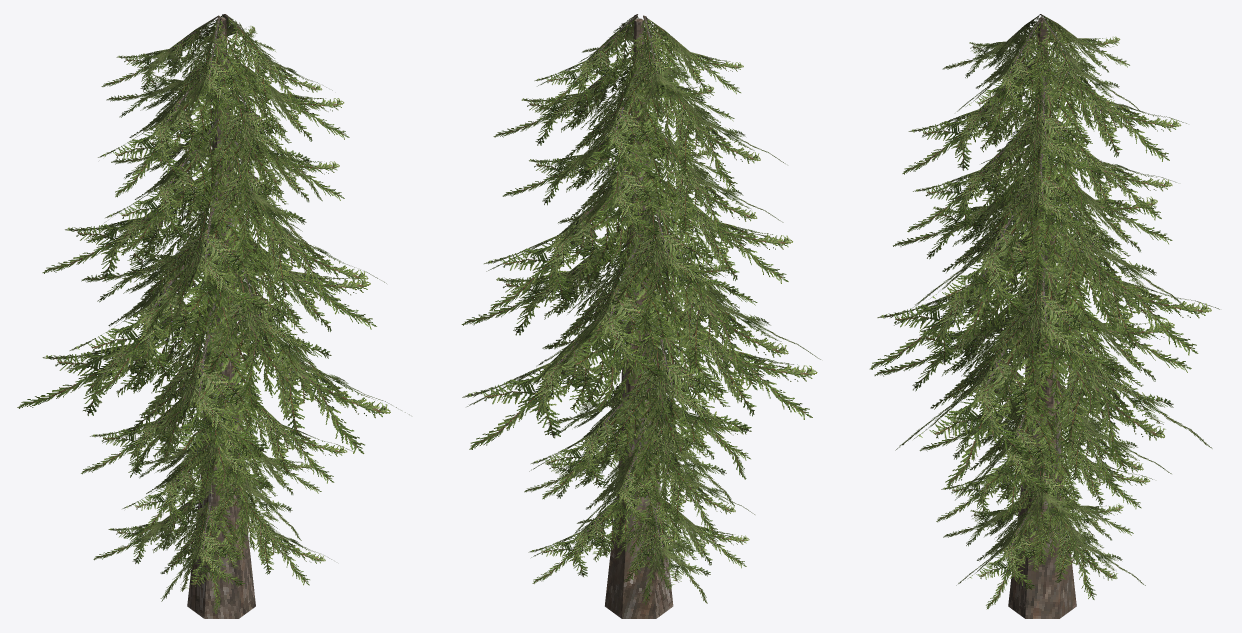
Rendered from baseModel.glb.
The picture shows the model from 3 angles, left to right: view 1: azimuth 30°, elevation 25°; view 2: azimuth 150°, elevation 25°; view 3: azimuth 270°, elevation 25°; orthographic projection.
Visible parts, largest first — view 1: sm_fir_leaves, sm_fir_trunk; view 2: sm_fir_leaves, sm_fir_trunk; view 3: sm_fir_leaves, sm_fir_trunk.
Boxes of the visible parts, bbox=[...] form: sm_fir_leaves: bbox=[17, 14, 409, 613]; sm_fir_trunk: bbox=[187, 17, 255, 618]; sm_fir_leaves: bbox=[461, 14, 820, 604]; sm_fir_trunk: bbox=[605, 18, 673, 618]; sm_fir_leaves: bbox=[869, 14, 1219, 609]; sm_fir_trunk: bbox=[1008, 20, 1076, 618].
Size of the model in its own units: 14.39 by 25.08 by 14.11.
Materials: 1 (1 with a texture image).
